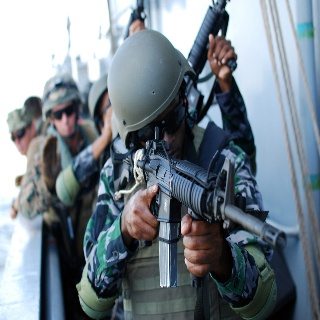rifle: (115, 125, 288, 287)
